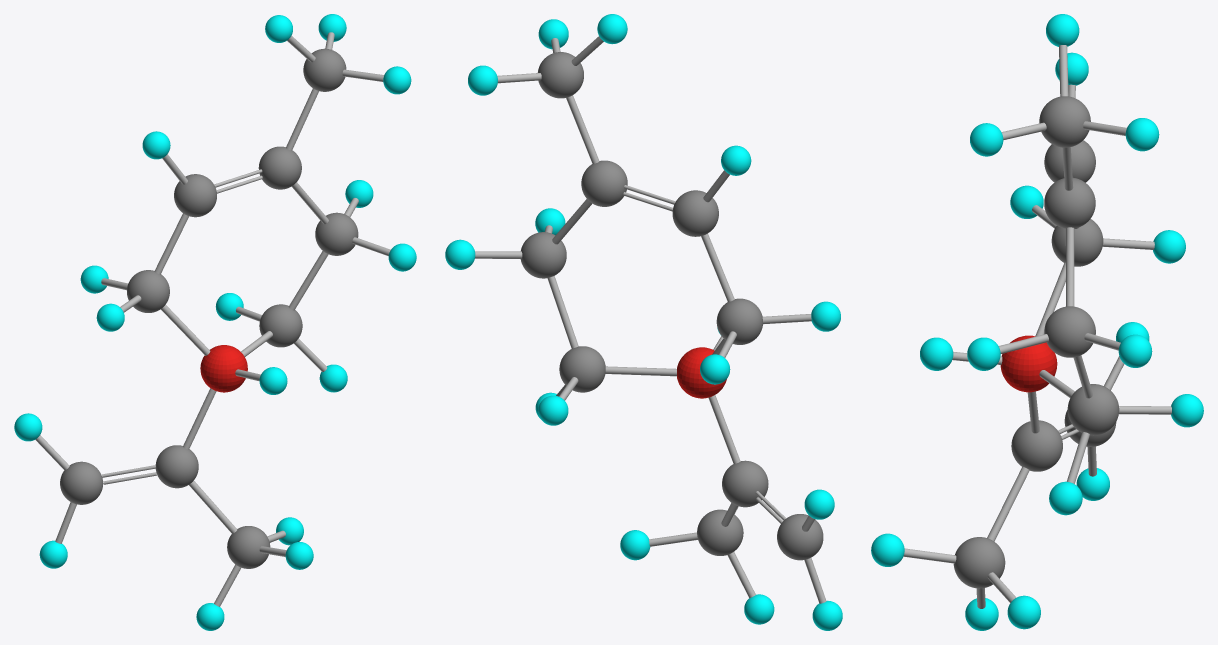
File: Ans(-)-Limonene.glb
The picture shows the model from 3 angles, left to right: view 1: azimuth 30°, elevation 25°; view 2: azimuth 150°, elevation 25°; view 3: azimuth 270°, elevation 25°; orthographic projection. The views are drawn at different scales.
Parts seen in each view (by area): view 1: CMBond_28_Segment_0.043, 球; view 2: CMBond_28_Segment_0.043, 球; view 3: CMBond_28_Segment_0.043, 球.
Part boxes in pixels (x1,y1,x2,y2): CMBond_28_Segment_0.043: (14,14,416,630); 球: (200,345,247,392); CMBond_28_Segment_0.043: (445,14,842,630); 球: (677,347,726,398); CMBond_28_Segment_0.043: (871,14,1203,630); 球: (1000,335,1057,392).
Bounding box in the file's own units: 0.5877 × 0.8879 × 0.3974.
